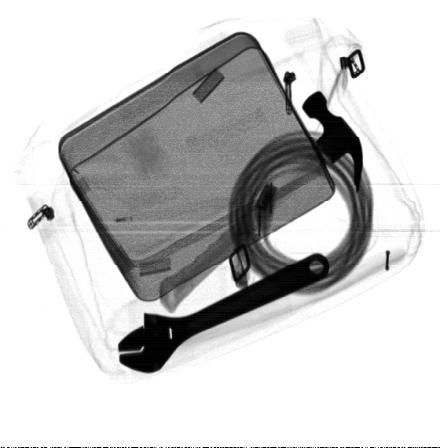Hammer: (159, 90, 363, 313)
Wrench: (117, 254, 330, 374)
